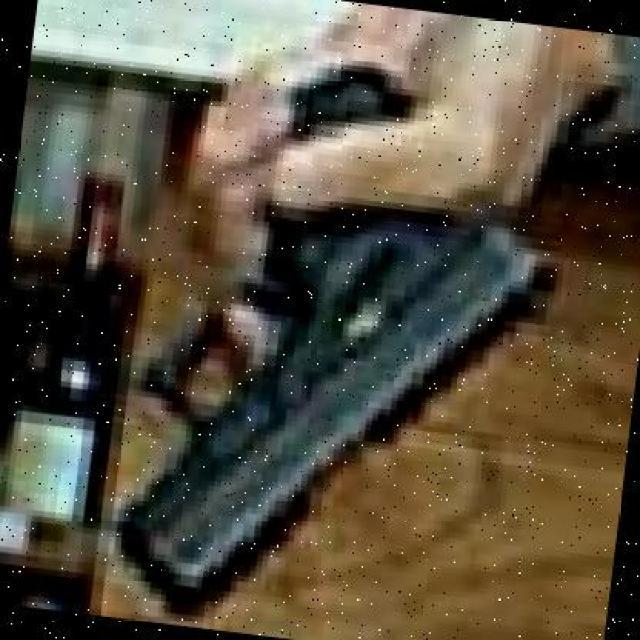rifle: (115, 202, 557, 616)
